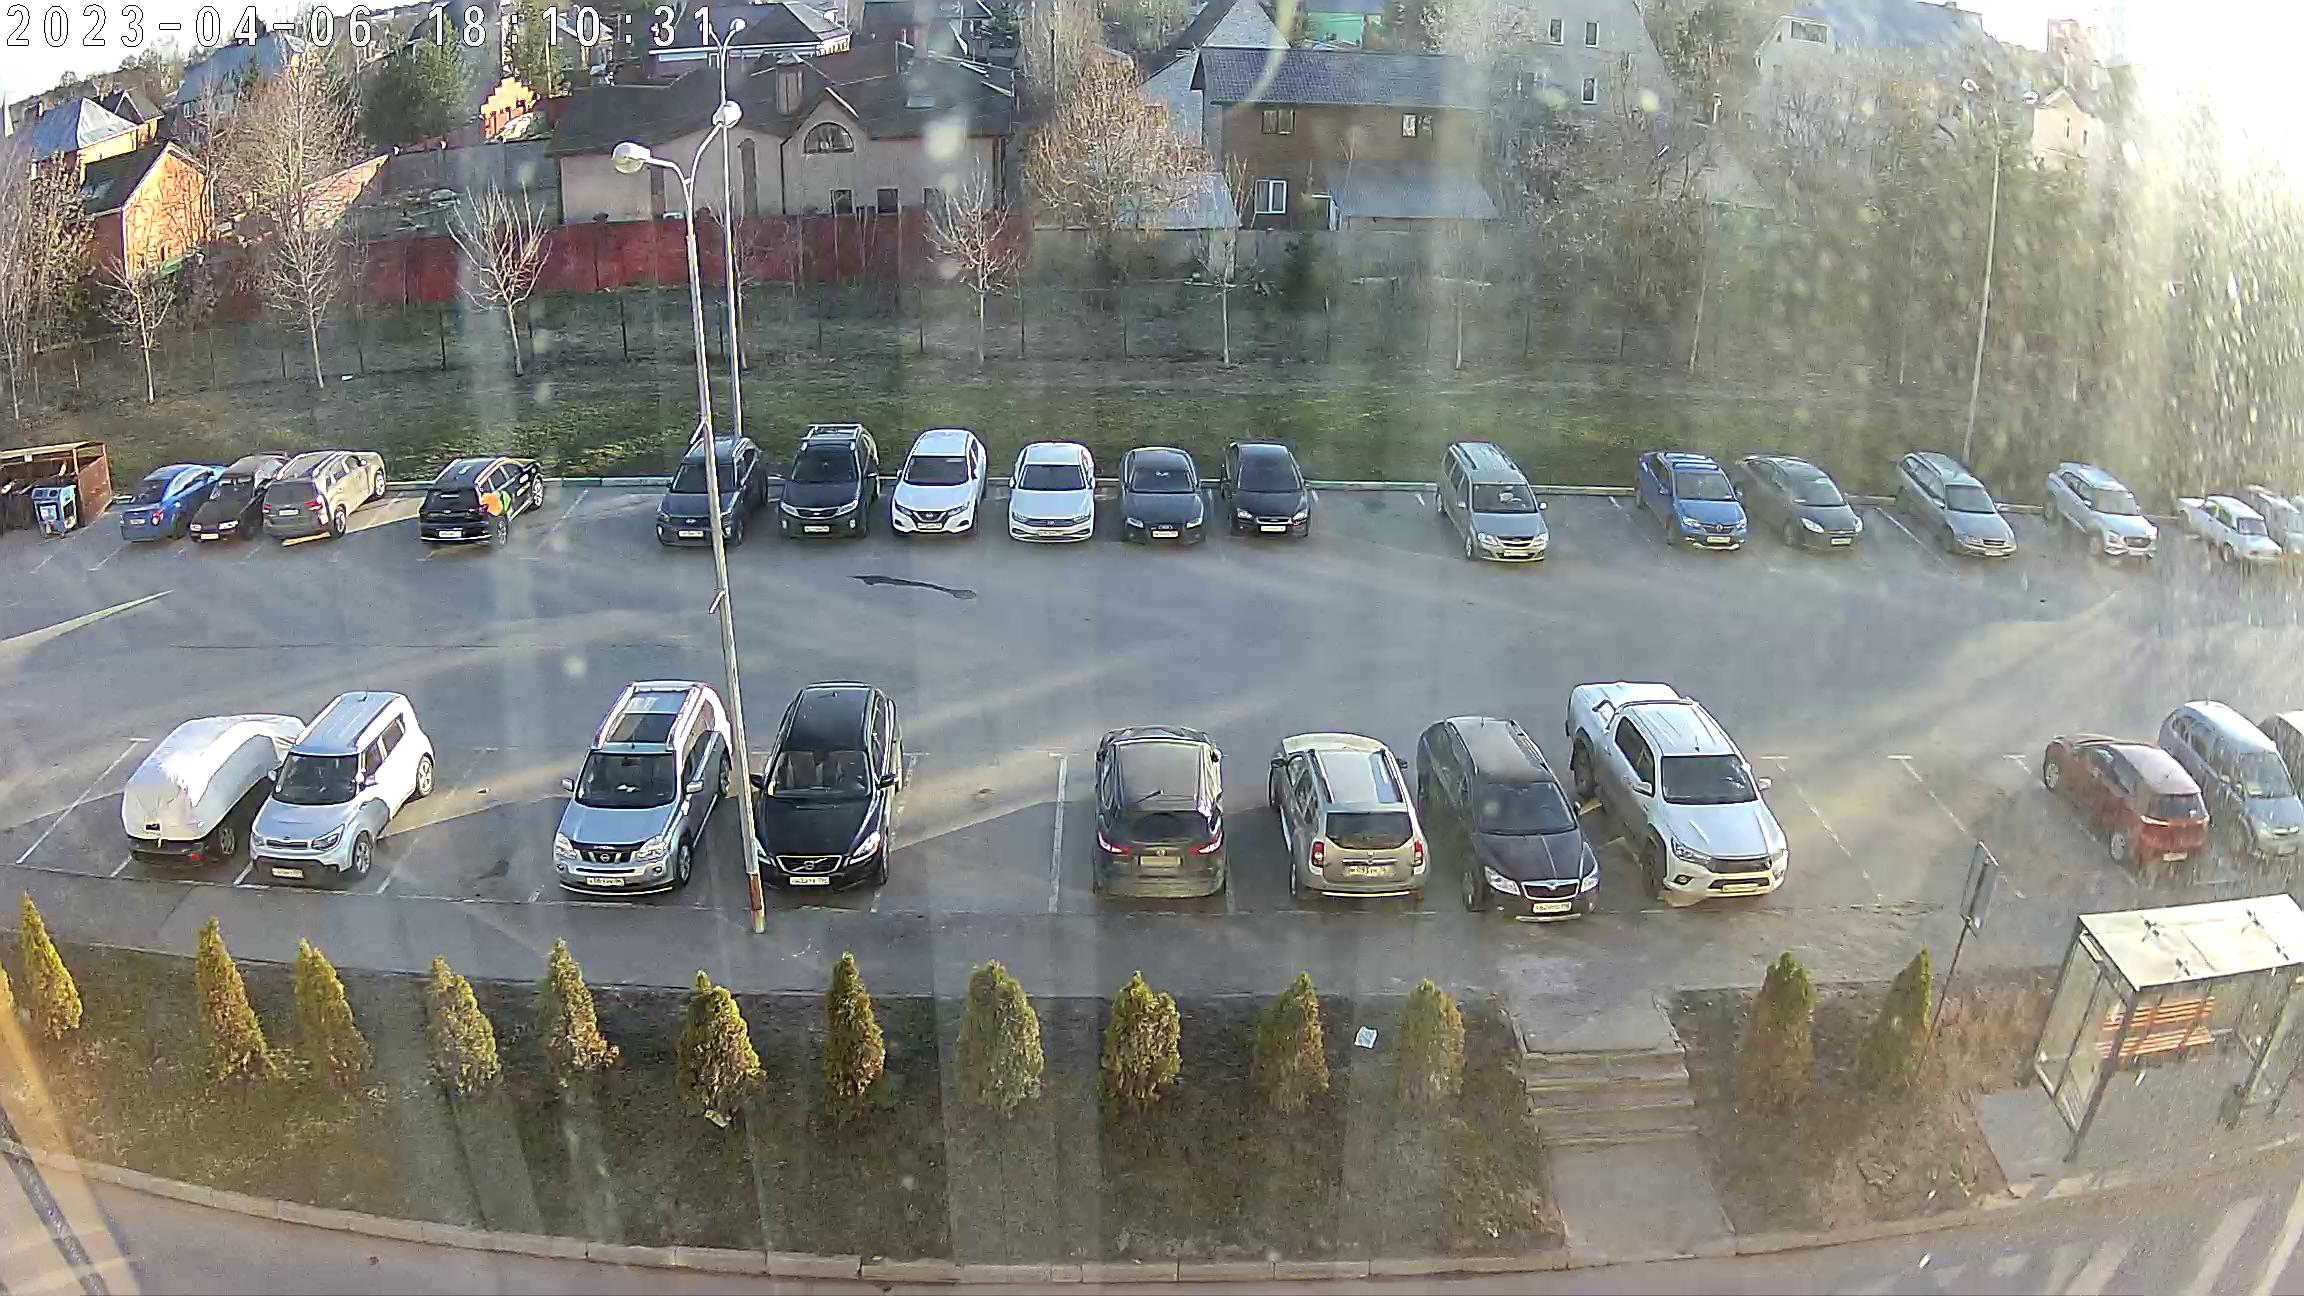empty: (522, 676, 737, 897), (1571, 695, 1799, 900), (226, 692, 435, 889), (729, 685, 926, 894), (1435, 725, 1631, 915), (1060, 731, 1261, 905), (1269, 739, 1457, 900), (2056, 726, 2255, 866), (90, 725, 280, 864), (2177, 707, 2293, 867), (1888, 454, 2056, 560), (1432, 451, 1584, 565), (215, 453, 377, 551), (1725, 459, 1885, 552), (756, 429, 892, 538), (1625, 456, 1771, 554), (875, 429, 1003, 538), (986, 446, 1116, 551), (2040, 468, 2185, 560), (1207, 443, 1339, 544), (1100, 449, 1223, 549), (413, 464, 555, 549), (111, 465, 252, 549), (2176, 491, 2304, 567)
occupied: (889, 750, 1074, 916), (5, 722, 135, 885), (434, 748, 546, 907), (1839, 764, 1953, 904), (1332, 456, 1438, 567), (1970, 764, 2049, 886), (1758, 767, 1832, 896), (571, 478, 669, 560), (1995, 486, 2067, 568), (2135, 500, 2206, 578)
